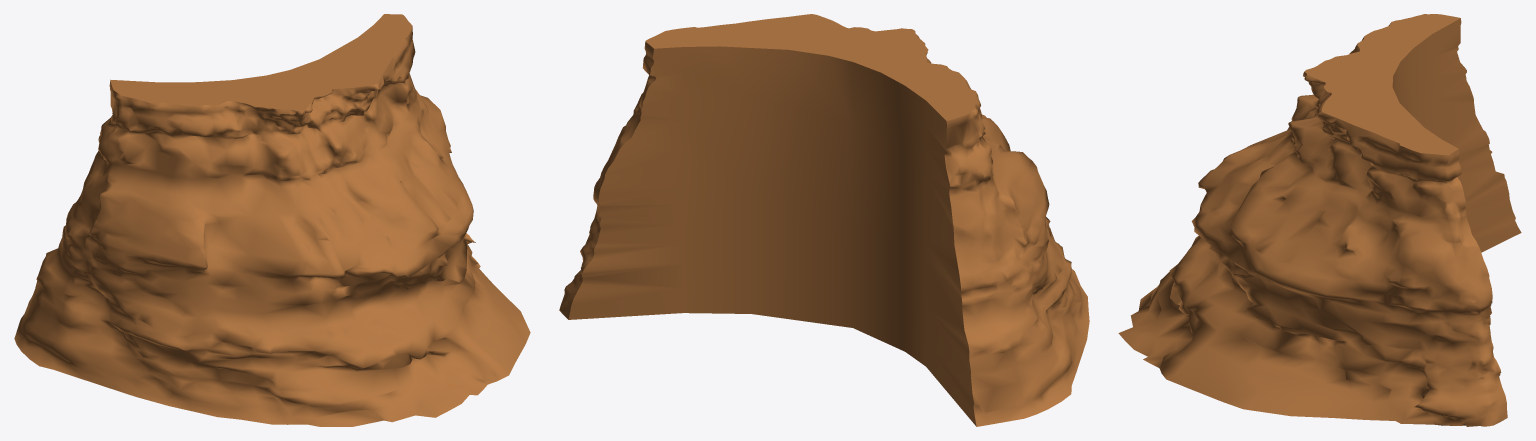
The model's file is MSH_Rocks_Cliff_26_c.FBX.
3 renders of one model, left to right at view 1: azimuth 30°, elevation 25°; view 2: azimuth 150°, elevation 25°; view 3: azimuth 270°, elevation 25°, orthographic. The views are drawn at different scales.
Parts seen in each view (by area): view 1: MESH_LOD0, CAP_LOD0; view 2: CAP_LOD0, MESH_LOD0; view 3: MESH_LOD0, CAP_LOD0.
Boxes of the visible parts, left/top/right/bottom form: MESH_LOD0: left=14, top=26, right=530, bottom=426; CAP_LOD0: left=110, top=14, right=412, bottom=110; CAP_LOD0: left=568, top=14, right=976, bottom=426; MESH_LOD0: left=559, top=34, right=1089, bottom=426; MESH_LOD0: left=1118, top=23, right=1507, bottom=426; CAP_LOD0: left=1304, top=14, right=1521, bottom=252.
Size of what is drawn, in the model's own units: 1231 by 661 by 994.
